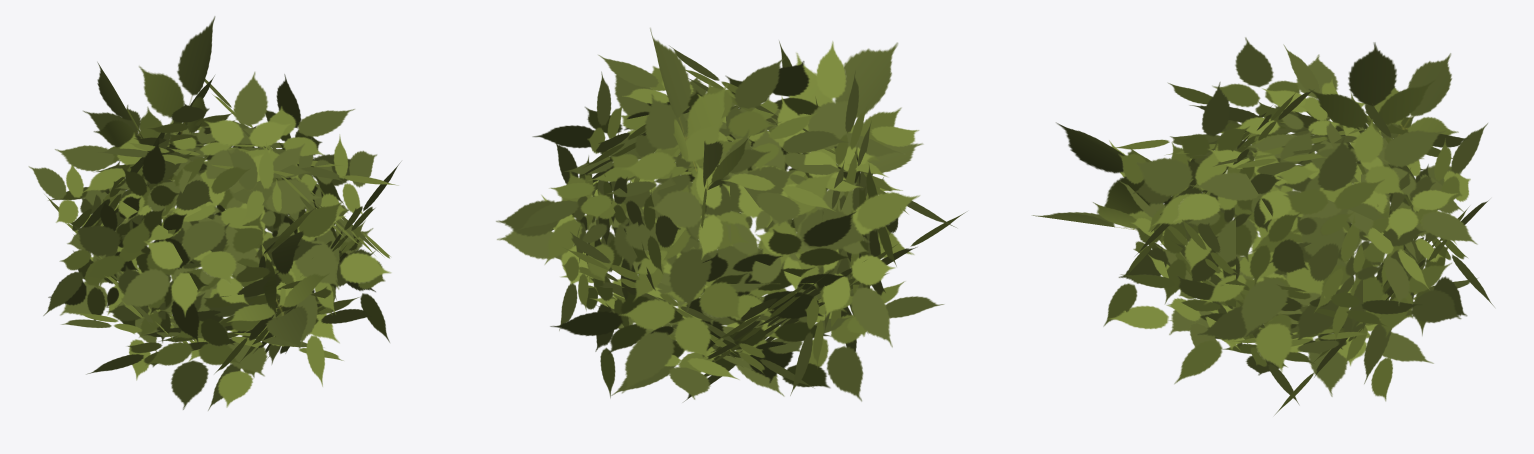
The model's file is Blackberry_Bush_1a.glb.
3 renders of one model, left to right at view 1: azimuth 30°, elevation 25°; view 2: azimuth 150°, elevation 25°; view 3: azimuth 270°, elevation 25°, orthographic. The views are drawn at different scales.
Visible parts, largest first — view 1: Blackberry_Bush_1a; view 2: Blackberry_Bush_1a; view 3: Blackberry_Bush_1a.
Part boxes in pixels (box(x1,y1,x2,y2)): Blackberry_Bush_1a: box(28, 16, 400, 410); Blackberry_Bush_1a: box(496, 28, 965, 401); Blackberry_Bush_1a: box(1032, 37, 1493, 415).
Bounding box in the file's own units: 0.9972 × 0.8671 × 0.9949.
Materials: 1 (1 with a texture image).
